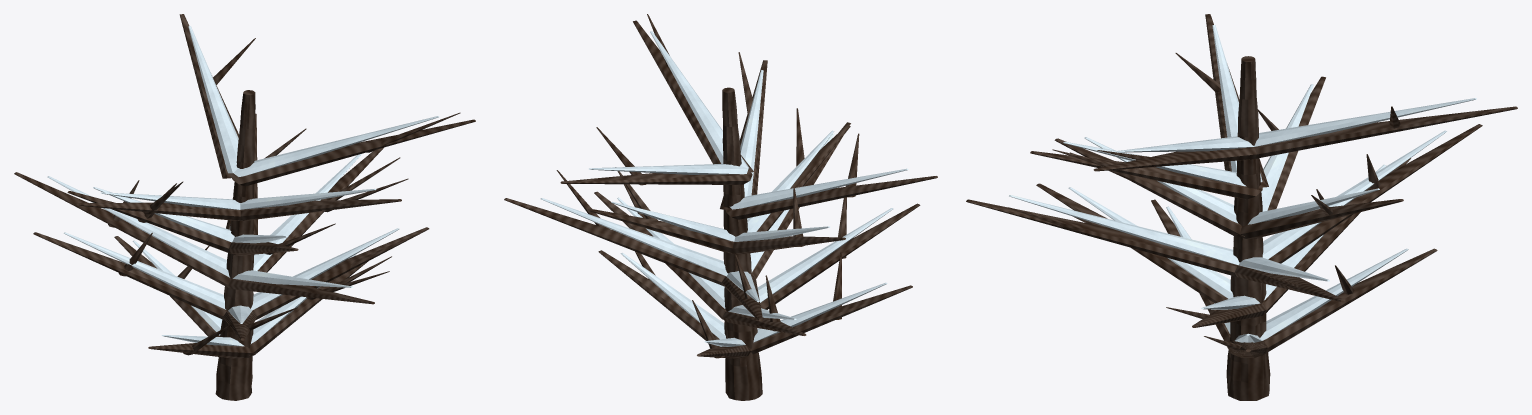
Rendered from FirstRoom_SnowShrub.fbx.
3 views of the same model, side by side, from view 1: azimuth 30°, elevation 25°; view 2: azimuth 150°, elevation 25°; view 3: azimuth 270°, elevation 25° (orthographic). The views are drawn at different scales.
Visible parts, largest first — view 1: WO_FirstRoom_SnowShrub_LOD0; view 2: WO_FirstRoom_SnowShrub_LOD0; view 3: WO_FirstRoom_SnowShrub_LOD0.
Boxes of the visible parts, bbox=[...] form: WO_FirstRoom_SnowShrub_LOD0: bbox=[14, 14, 475, 400]; WO_FirstRoom_SnowShrub_LOD0: bbox=[504, 14, 937, 400]; WO_FirstRoom_SnowShrub_LOD0: bbox=[966, 14, 1517, 400].
Size of what is drawn, in the model's own units: 5.37 by 4.11 by 6.
